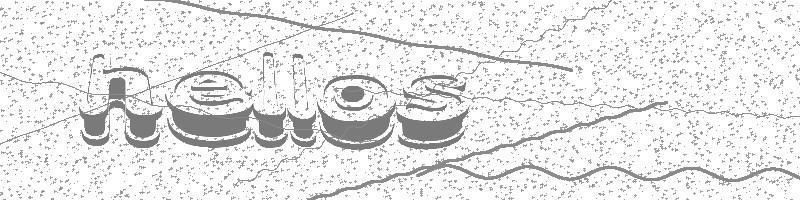e: (166, 71, 253, 148)
h: (79, 54, 162, 148)
l: (253, 52, 287, 149), (287, 54, 316, 147)
o: (318, 75, 395, 149)
s: (396, 75, 470, 149)
